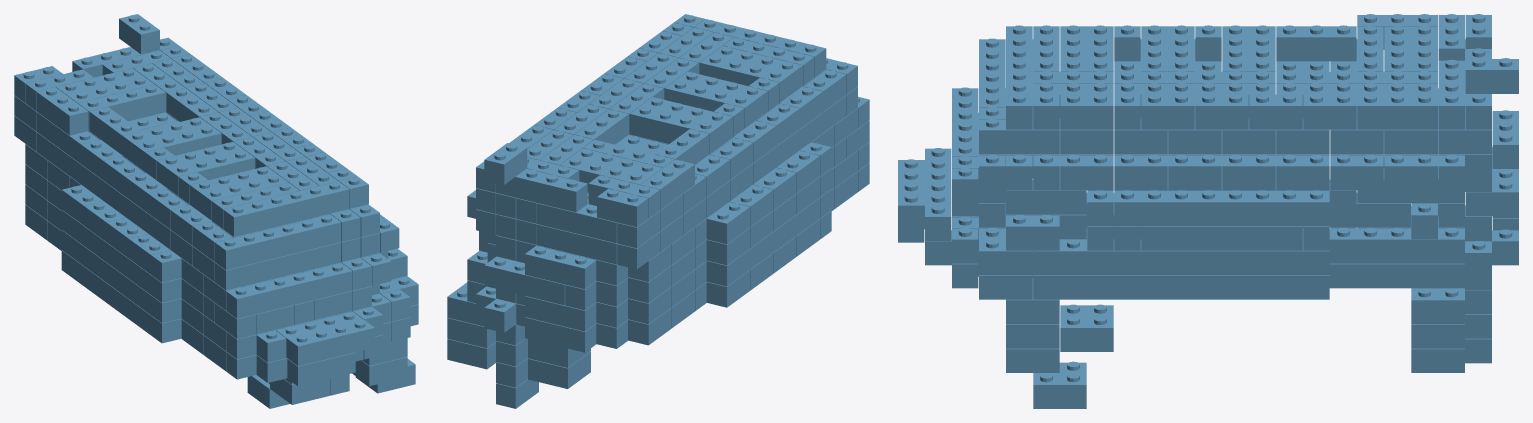
File: 197_piano_L2.glb
The picture shows the model from 3 angles, left to right: view 1: azimuth 30°, elevation 25°; view 2: azimuth 150°, elevation 25°; view 3: azimuth 270°, elevation 25°; orthographic projection. The views are drawn at different scales.
Size of the model in its own units: 11.98 by 12.13 by 22.98.
